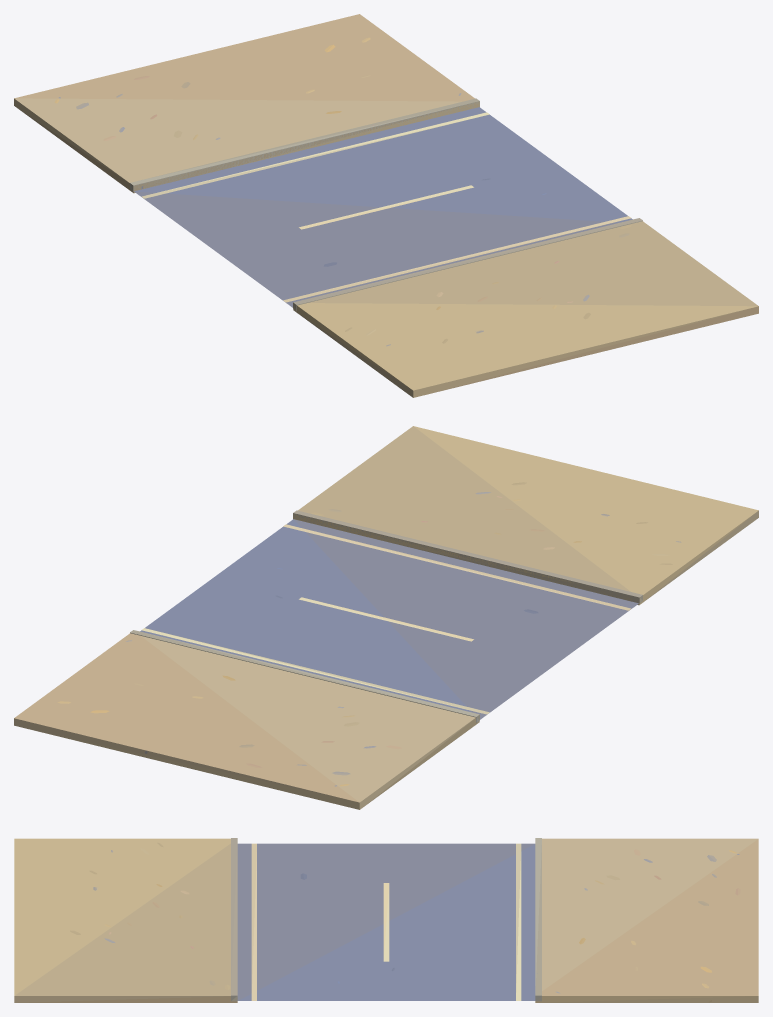
File: HK_Road_Straight.lod.glb
3 views of the same model, one above another, from view 1: azimuth 30°, elevation 25°; view 2: azimuth 150°, elevation 25°; view 3: azimuth 270°, elevation 25° (orthographic). The views are drawn at different scales.
Parts seen in each view (by area): view 1: HK_Road_Straight; view 2: HK_Road_Straight; view 3: HK_Road_Straight.
Part boxes in pixels (bbox=[...]): HK_Road_Straight: bbox=[14, 14, 758, 397]; HK_Road_Straight: bbox=[14, 426, 758, 809]; HK_Road_Straight: bbox=[14, 838, 758, 1002].
Size of the model in its own units: 10.02 by 0.2264 by 20.01.
